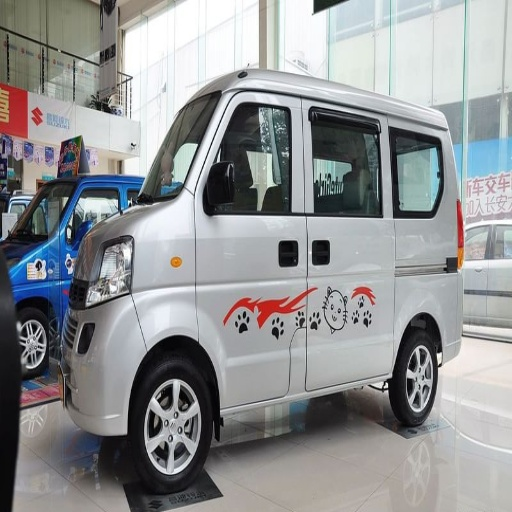back_left_door: (302, 100, 442, 355)
front_left_door: (194, 92, 311, 405)
trunk: (337, 237, 460, 374), (78, 368, 131, 424)
